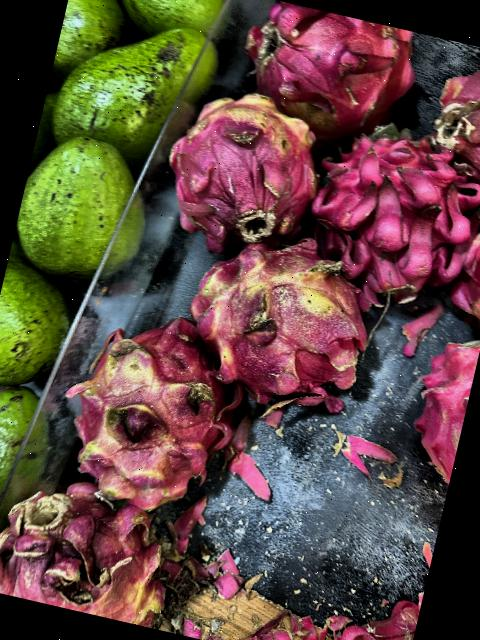buah-naga-belum-matang: (178, 222, 402, 428), (51, 300, 254, 517), (156, 65, 334, 243), (0, 465, 188, 630)
buah-naga-matang: (303, 107, 480, 293), (230, 0, 432, 150), (412, 332, 480, 467), (422, 40, 480, 192)
